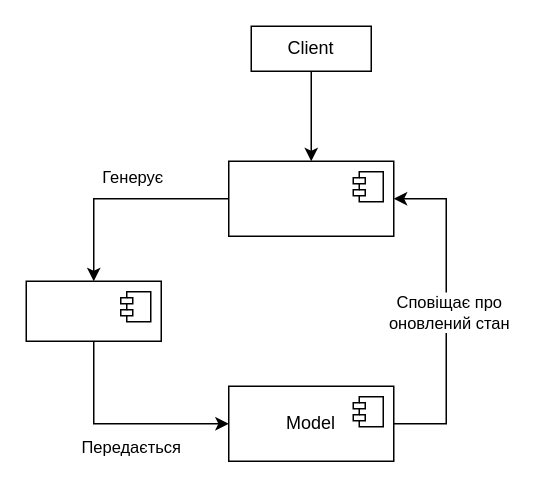
Some shapes in this 534 by 488 pixel diagram are drawn without their labels. Here are the shapes that lost their labels. From the top down, the centre of each, then its label:
(310,198): View
(93,310): Intent
